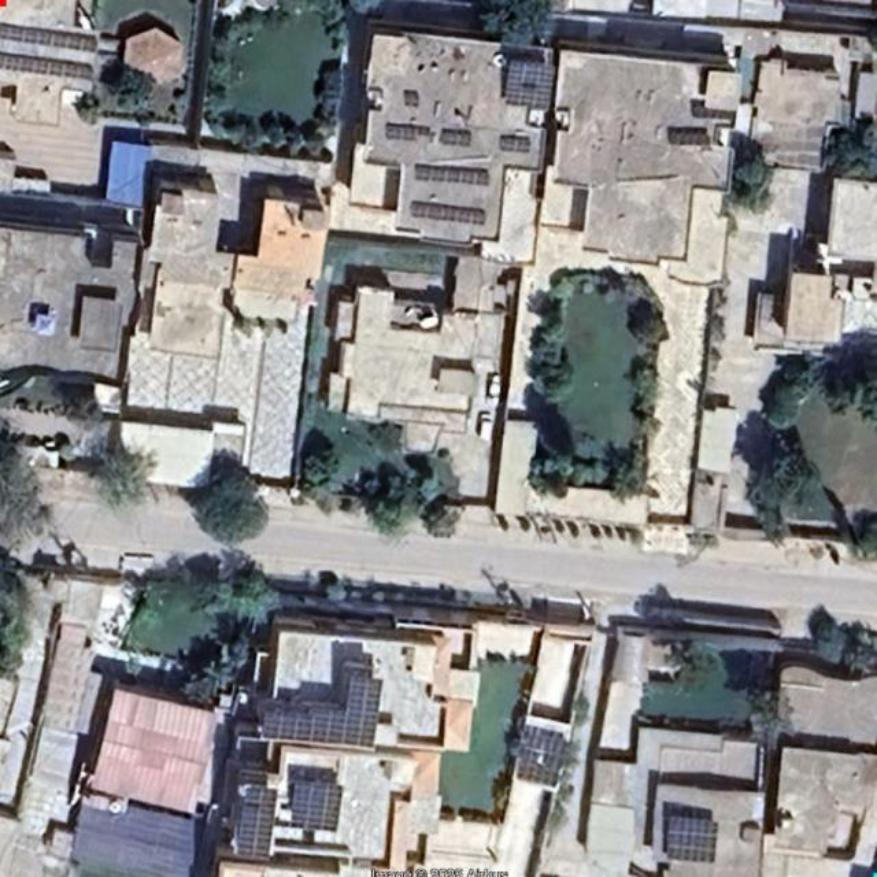Solarpanel: (261, 673, 382, 747), (514, 724, 567, 786), (236, 787, 277, 859), (0, 50, 92, 80), (665, 814, 718, 864), (291, 781, 341, 831), (0, 25, 96, 50), (506, 61, 555, 107), (411, 201, 486, 225), (412, 164, 488, 183), (498, 134, 532, 152), (440, 127, 473, 145), (385, 124, 417, 139)
